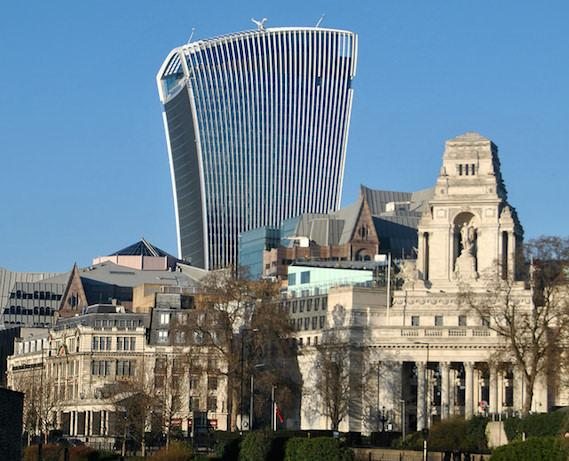Walkie talkie: (152, 21, 359, 269)
